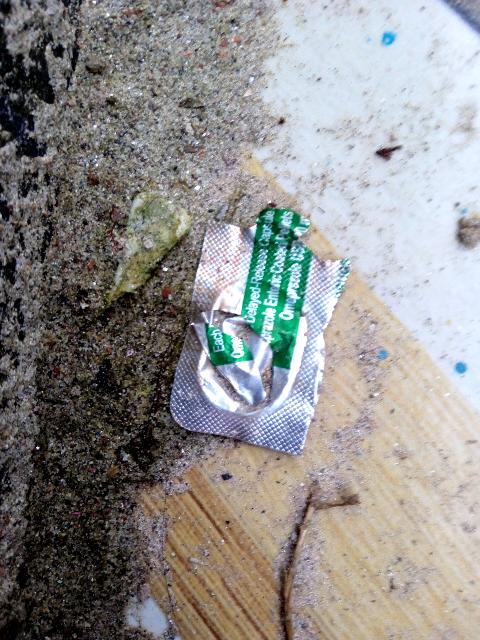medicine: (154, 211, 362, 467)
